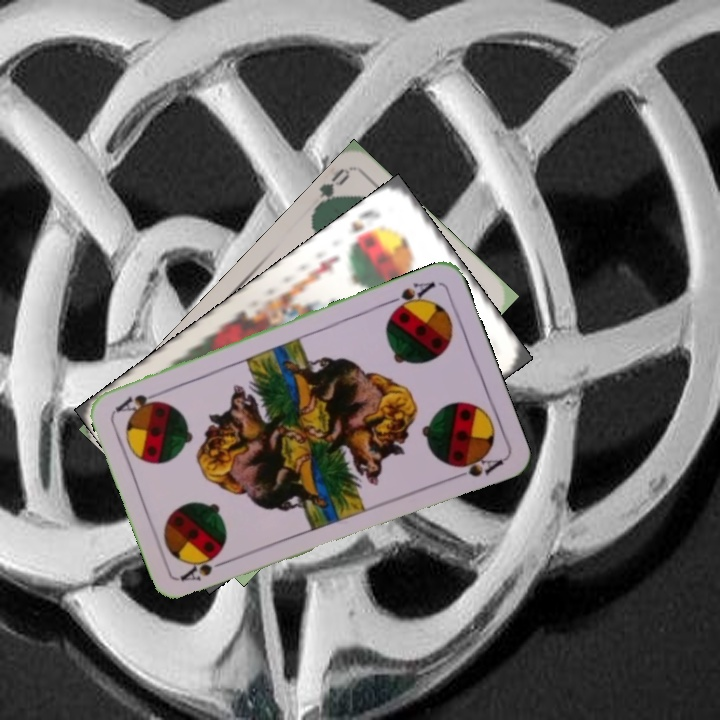GO: (309, 164, 353, 216)
SA: (383, 277, 438, 316), (176, 551, 234, 584)
SK: (346, 205, 385, 236)
